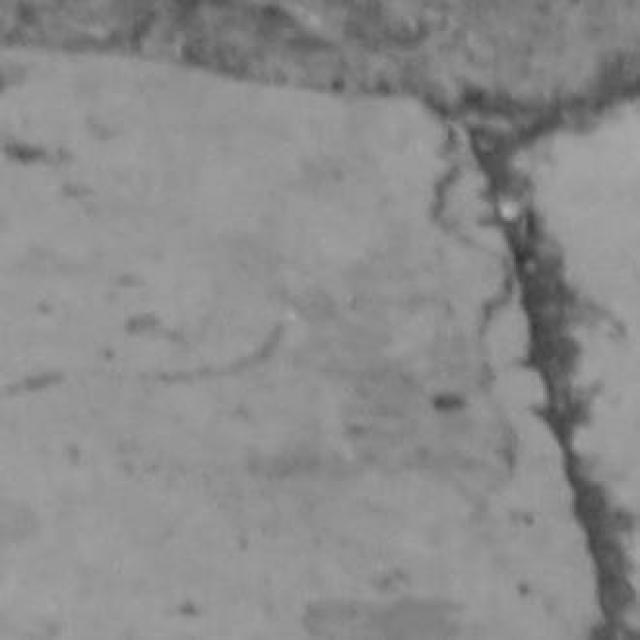crack: (472, 132, 639, 639)
